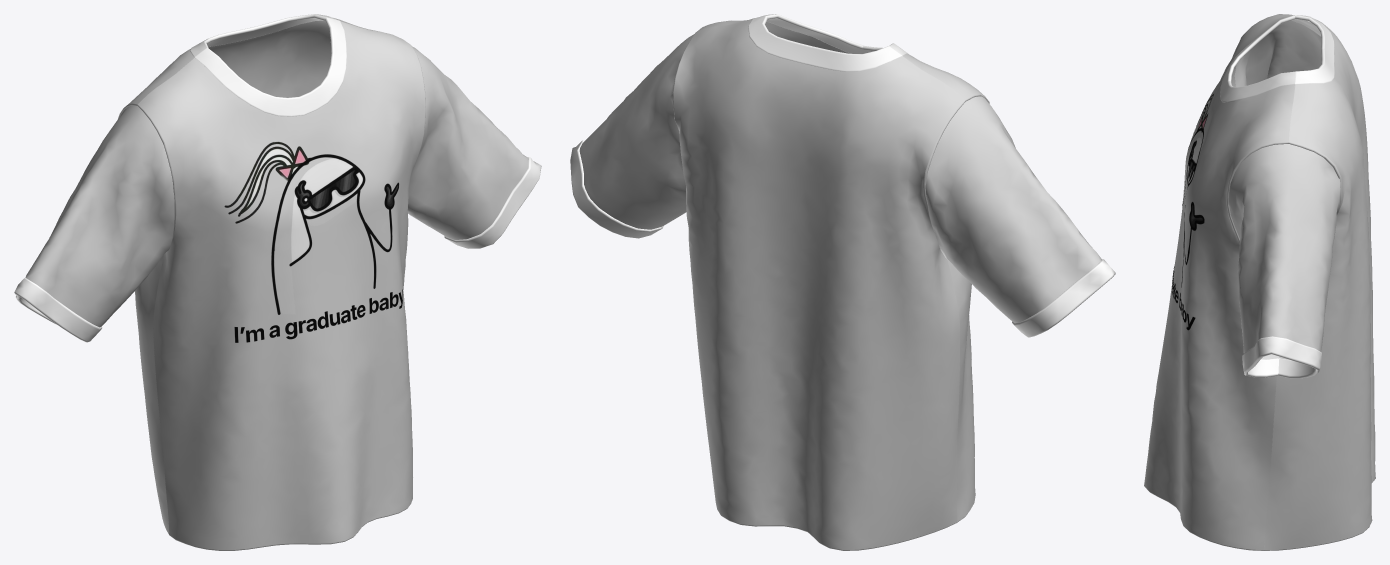
Rendered from graduateBaby.glb.
3 views of the same model, side by side, from view 1: azimuth 30°, elevation 25°; view 2: azimuth 150°, elevation 25°; view 3: azimuth 270°, elevation 25° (orthographic). The views are drawn at different scales.
Parts seen in each view (by area): view 1: i'm a graduate baby; view 2: i'm a graduate baby; view 3: i'm a graduate baby.
Boxes of the visible parts, x1,y1,x2,y2 form: i'm a graduate baby: [14, 14, 541, 550]; i'm a graduate baby: [570, 14, 1115, 550]; i'm a graduate baby: [1144, 14, 1375, 550].
Size of the model in its own units: 0.8474 by 0.7174 by 0.3294.
Materials: 3 (1 with a texture image).
